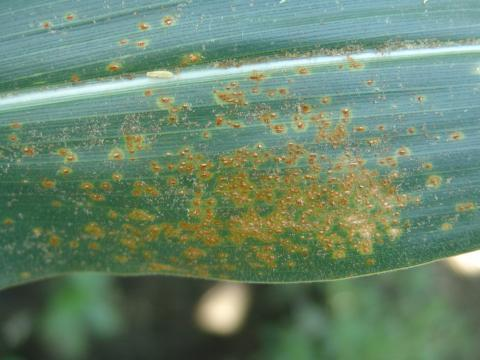Corn_Common_Rust: (52, 172, 480, 269), (118, 84, 480, 175), (150, 31, 480, 93), (9, 107, 110, 182), (116, 15, 196, 39), (98, 53, 145, 88), (5, 193, 29, 252), (27, 11, 77, 38), (249, 0, 306, 18), (26, 223, 47, 257), (65, 73, 107, 89), (414, 0, 443, 22), (14, 266, 44, 282)
